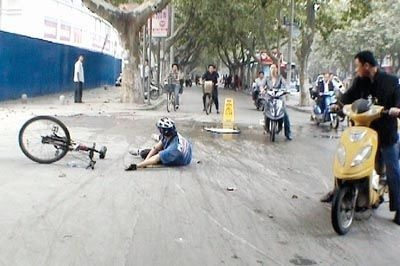falling: (125, 110, 197, 174)
